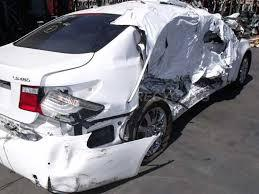Taillight-Damage: (42, 77, 101, 116)
quaterpanel-dent: (1, 118, 108, 177)
